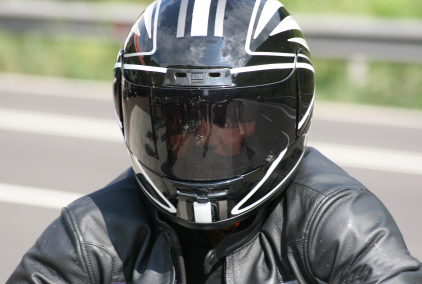helmet: (115, 2, 310, 219)
